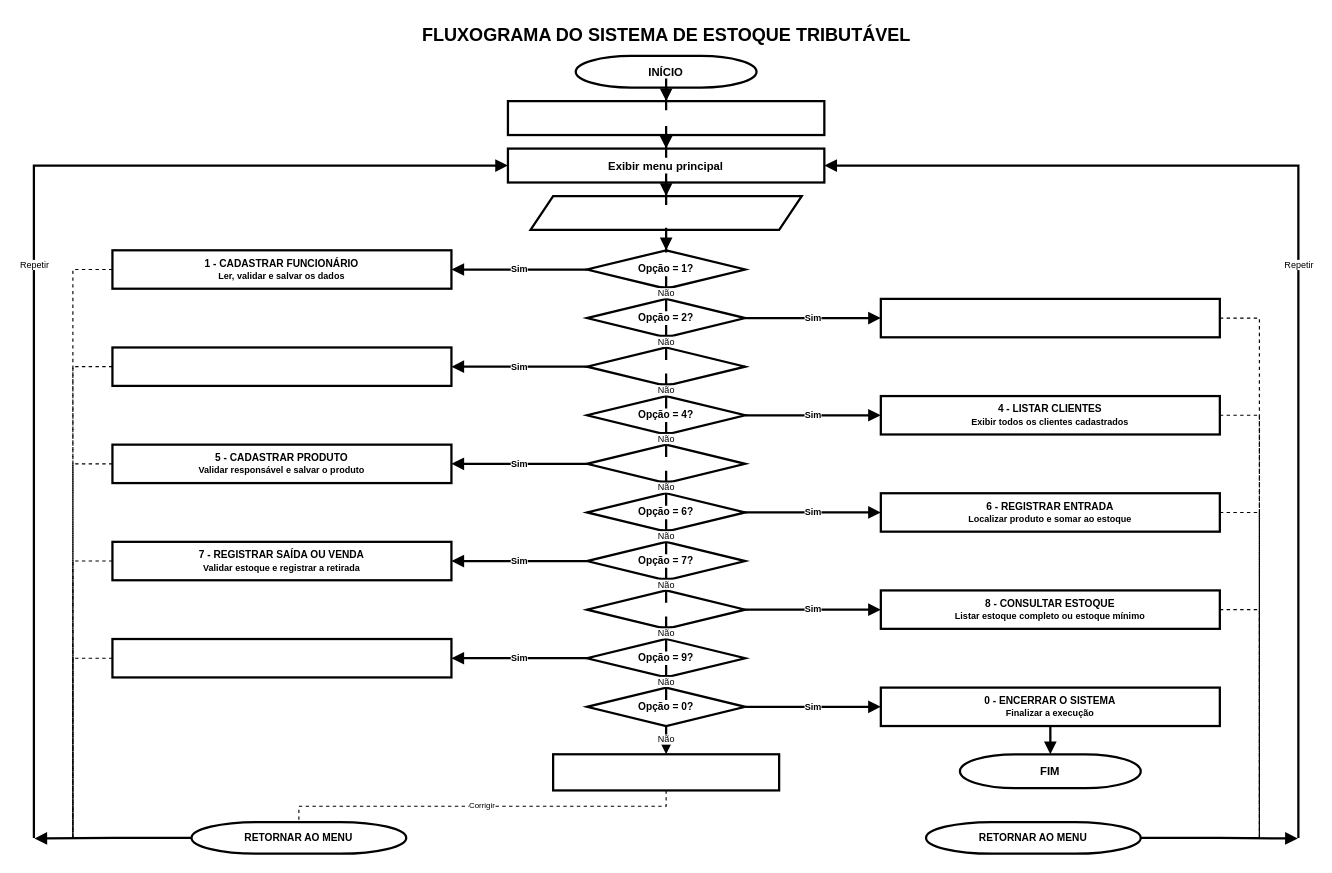
Some shapes in this 1332 by 873 pixel diagram are drawn without their labels. The box of each missing label's shape, as (x1, y1, x2, y2) in pixels:
2 - CADASTRAR CLIENTE Ler CPF, validar e salvar os dados: (879, 297, 1220, 338)
3 - LISTAR FUNCIONÁRIOS Exibir todos os funcionários cadastrados: (111, 346, 452, 386)
9 - RELATÓRIOS E REGIME Gerar relatório ou alterar o regime tributário: (111, 637, 452, 678)
Escolher regime tributário: (506, 99, 825, 136)
Exibir: opção inválida: (551, 753, 780, 791)
Ler a opção digitada: (529, 194, 802, 231)
Opção = 3?: (585, 346, 746, 386)
Opção = 5?: (585, 443, 746, 484)
Opção = 8?: (585, 589, 746, 629)
